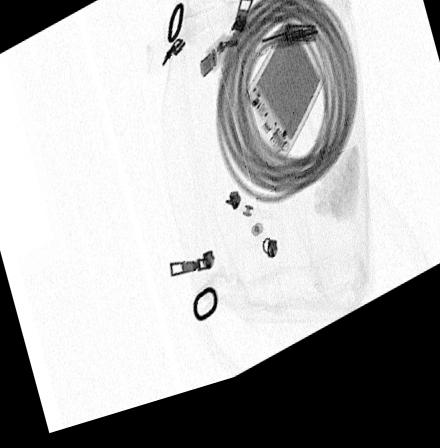Powerbank: (243, 30, 328, 175)
